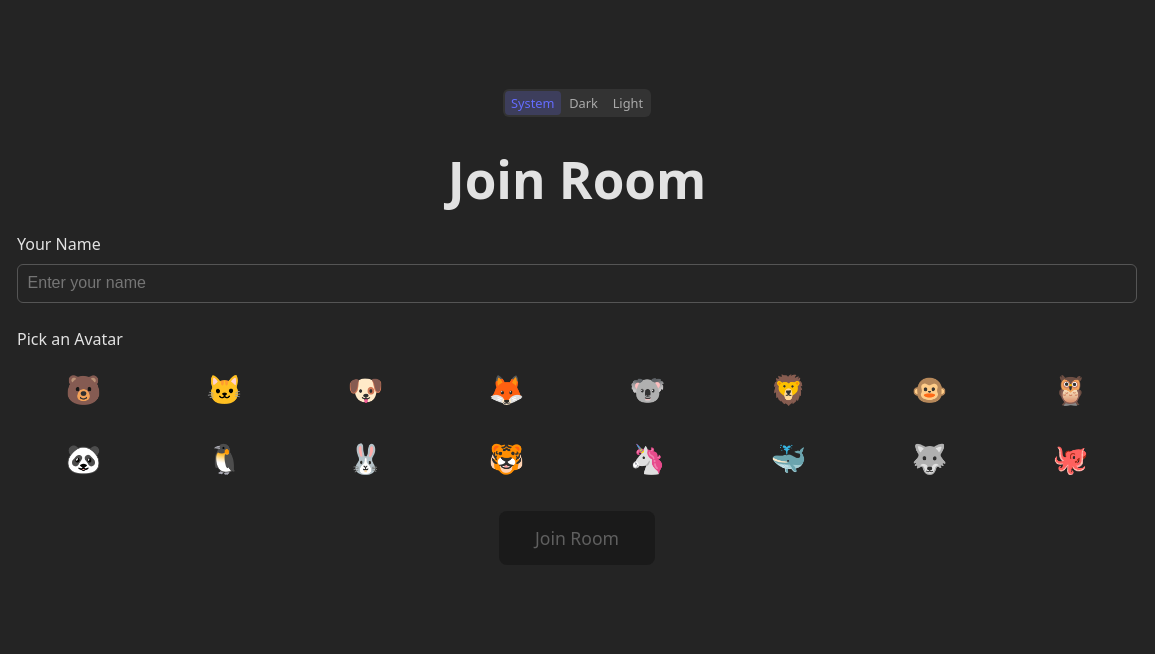
Test case: JoinPage › shows error when join fails with room not found
Type "Bob" into the field labelled "Your Name". click: (577, 283)
box: [17,264,1137,303]
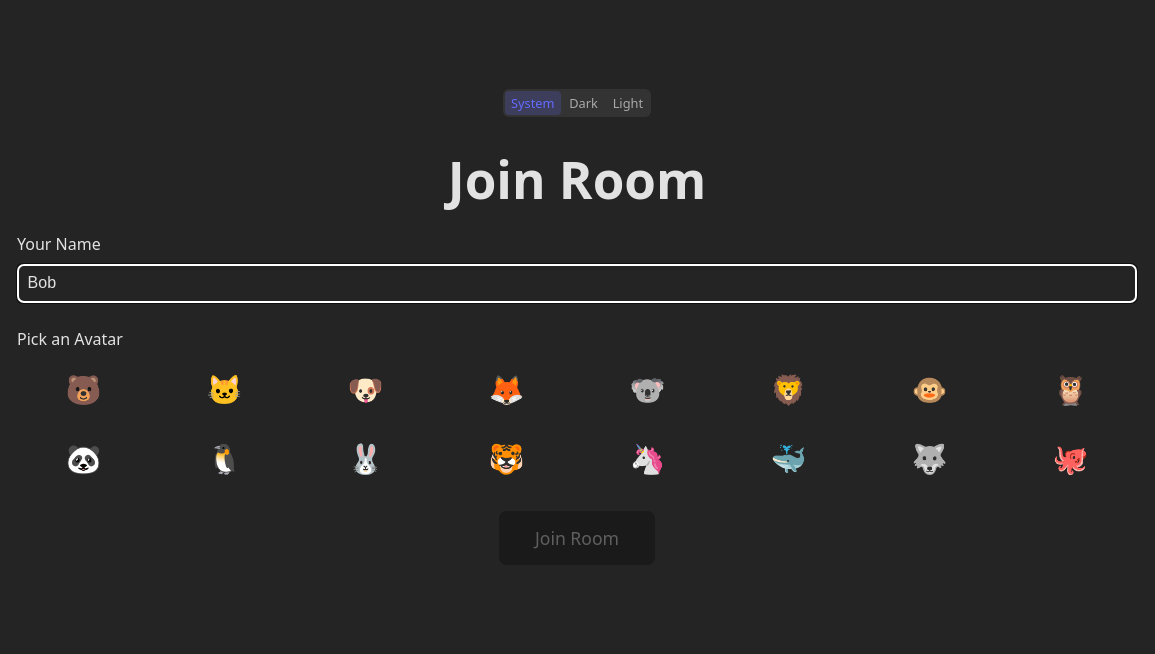
Click the radio button named "Dog". click: click(366, 389)
box: [299,359,432,419]
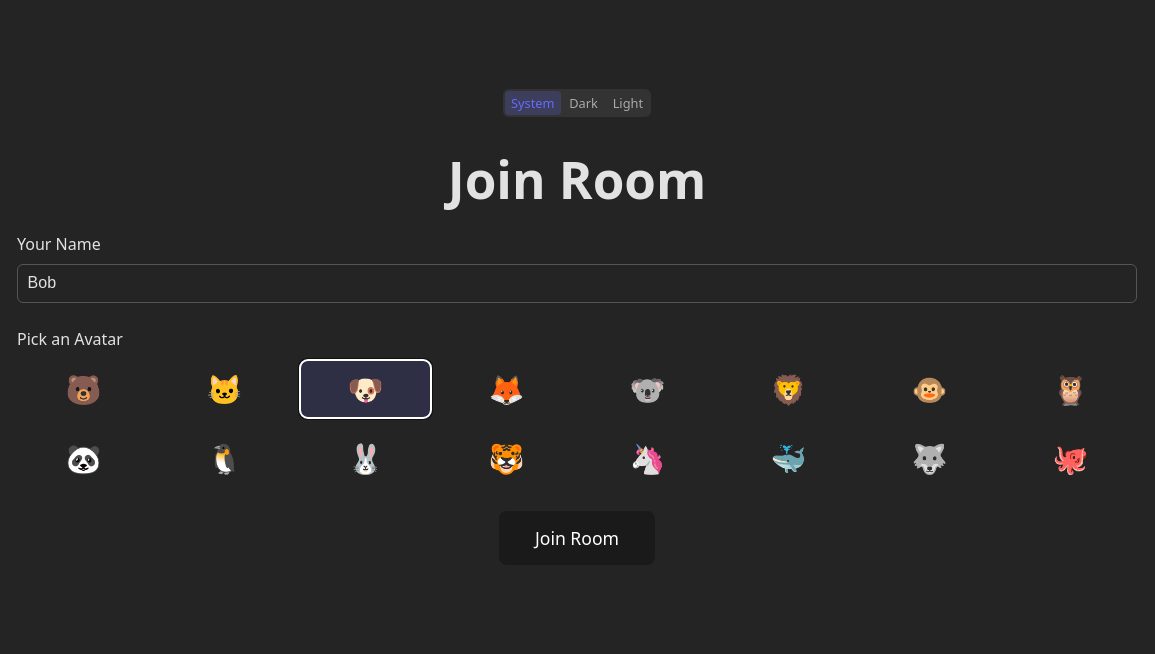
Click the button "Join Room". click: click(577, 538)
box: [499,511,655,566]
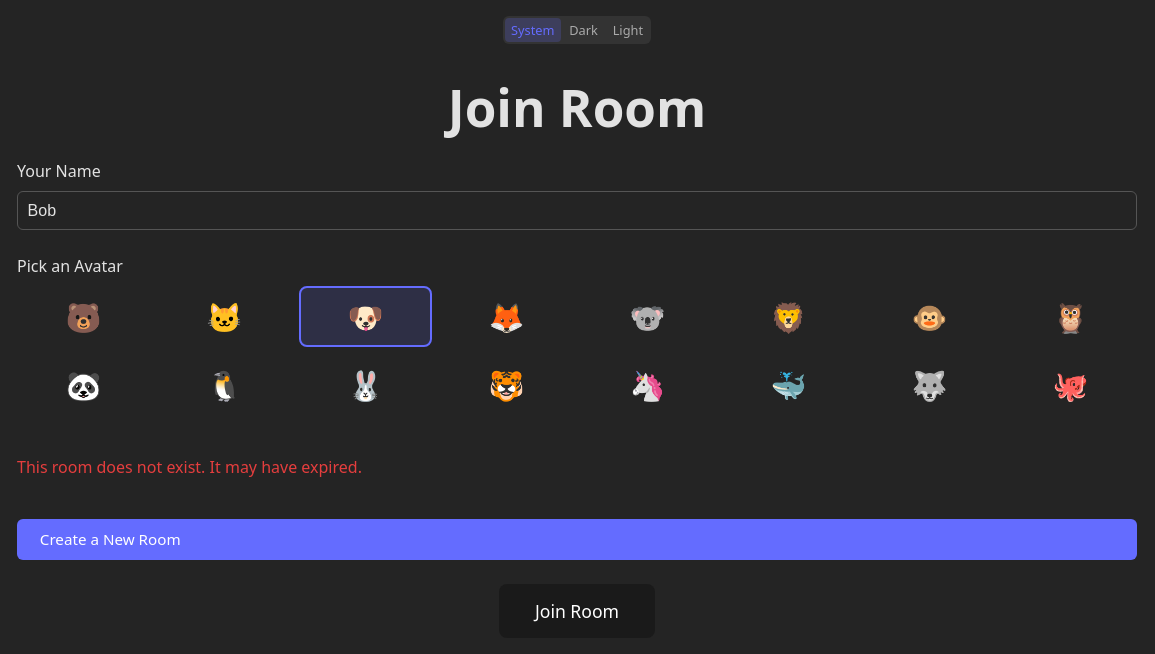
Result: the text "This room does not exist. It may have expired." is shown at [17,456,362,478]
Result: the link "Create a New Room" is shown at [17,519,1137,560]
